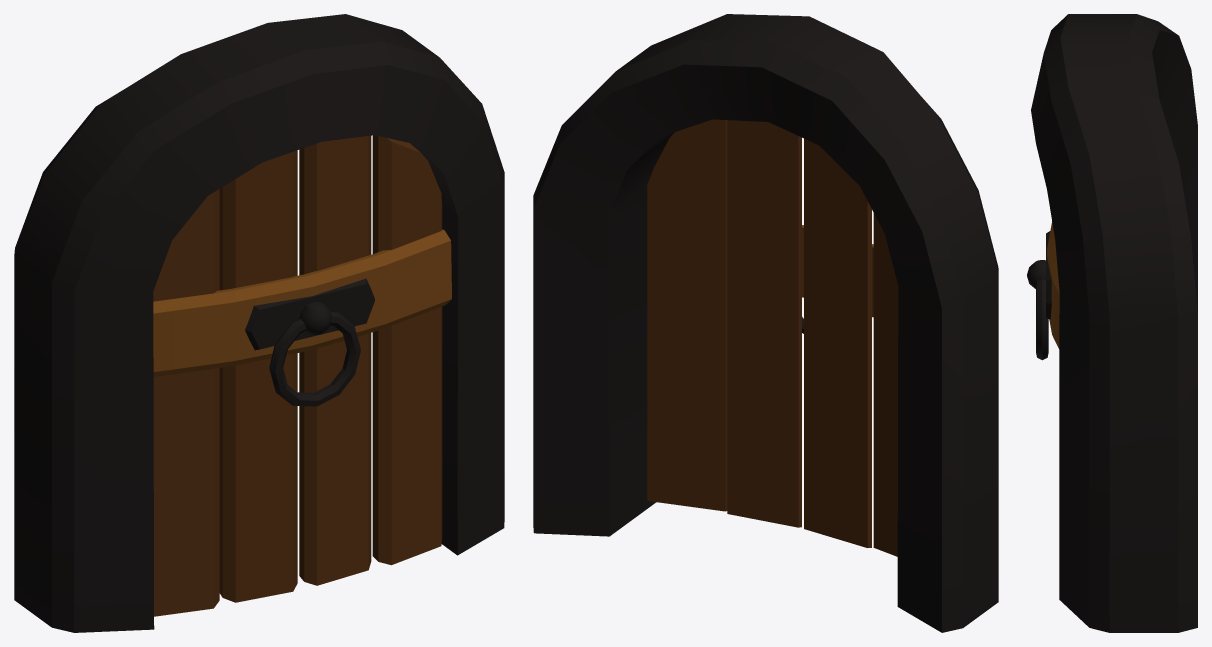
File: Door.fbx
3 views of the same model, side by side, from view 1: azimuth 30°, elevation 25°; view 2: azimuth 150°, elevation 25°; view 3: azimuth 270°, elevation 25° (orthographic). The views are drawn at different scales.
Parts seen in each view (by area): view 1: Door_Frame, Door; view 2: Door_Frame, Door; view 3: Door_Frame, Door.
Boxes of the visible parts, <box> form: Door_Frame: <box>14,14,504,632</box>; Door: <box>153,135,451,616</box>; Door_Frame: <box>533,14,998,632</box>; Door: <box>647,119,898,556</box>; Door_Frame: <box>1031,14,1197,632</box>; Door: <box>1027,221,1059,360</box>.
Size of the model in its own units: 371 by 424 by 133.
